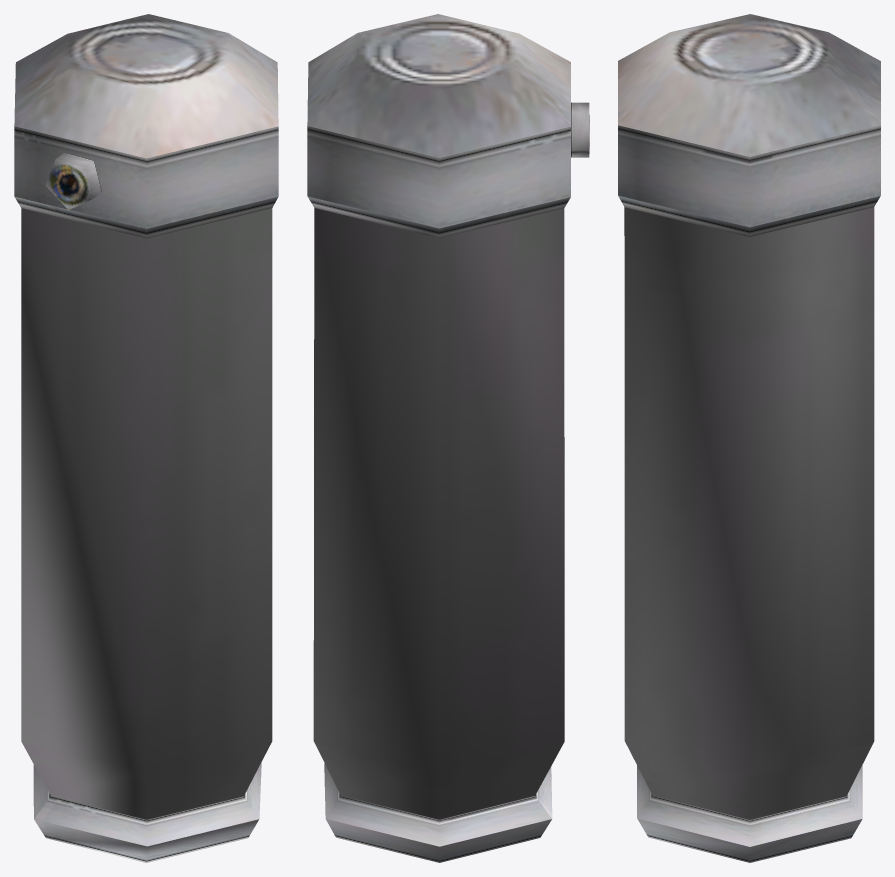
The model's file is eqp_medic_antidote_m_s1_l0.fbx.
The picture shows the model from 3 angles, left to right: view 1: azimuth 30°, elevation 25°; view 2: azimuth 150°, elevation 25°; view 3: azimuth 270°, elevation 25°; orthographic projection.
Parts seen in each view (by area): view 1: mesh_node; view 2: mesh_node; view 3: mesh_node.
Boxes of the visible parts, <box> form: mesh_node: <box>14,14,278,862</box>; mesh_node: <box>307,14,589,862</box>; mesh_node: <box>618,14,880,862</box>.
Size of the model in its own units: 0.0736 by 0.2033 by 0.0636.
